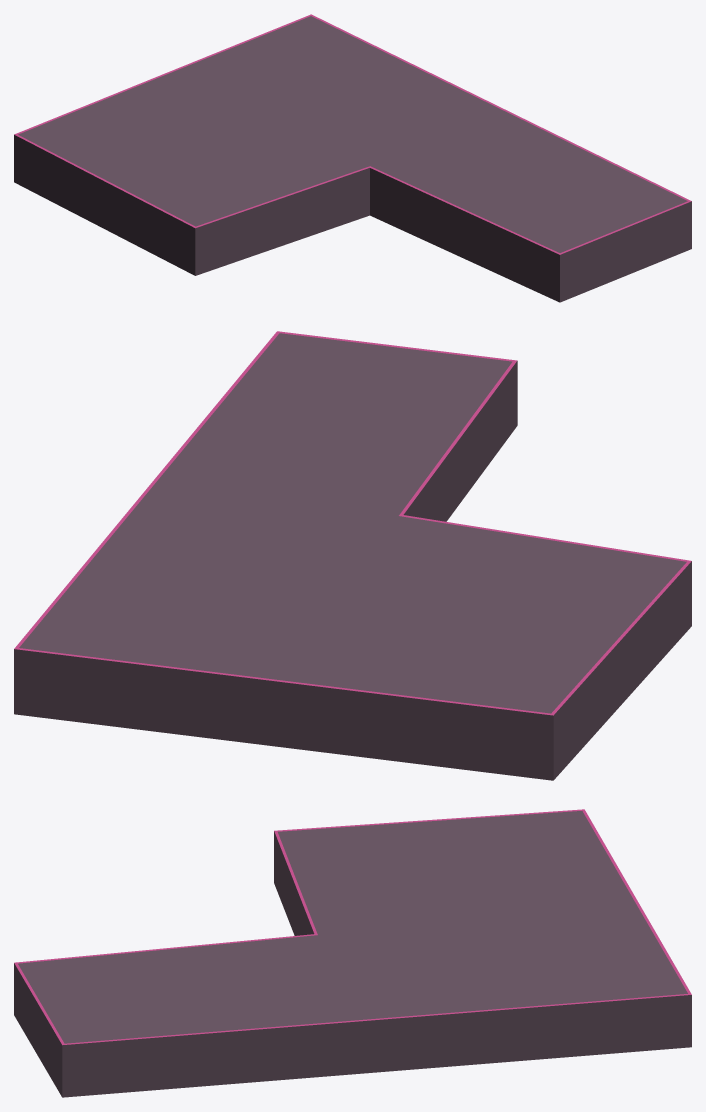
File: way-205661082.glb
3 views of the same model, one above another, from view 1: azimuth 30°, elevation 25°; view 2: azimuth 150°, elevation 25°; view 3: azimuth 270°, elevation 25° (orthographic). The views are drawn at different scales.
Visible parts, largest first — view 1: way-205661082; view 2: way-205661082; view 3: way-205661082.
Part boxes in pixels (x1,y1,x2,y2): way-205661082: (14,14,691,302); way-205661082: (14,331,691,780); way-205661082: (14,809,691,1097).
Bounding box in the file's own units: 28.93 × 3 × 35.14.
